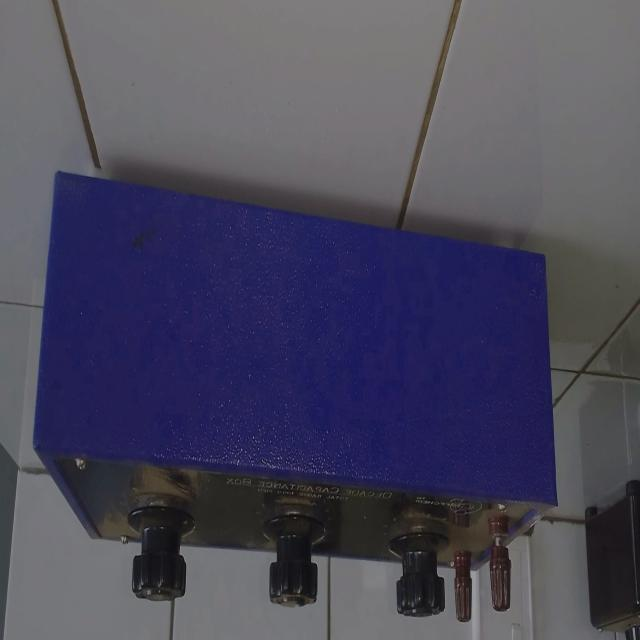Decade Capacitor Box: (19, 160, 573, 640)
